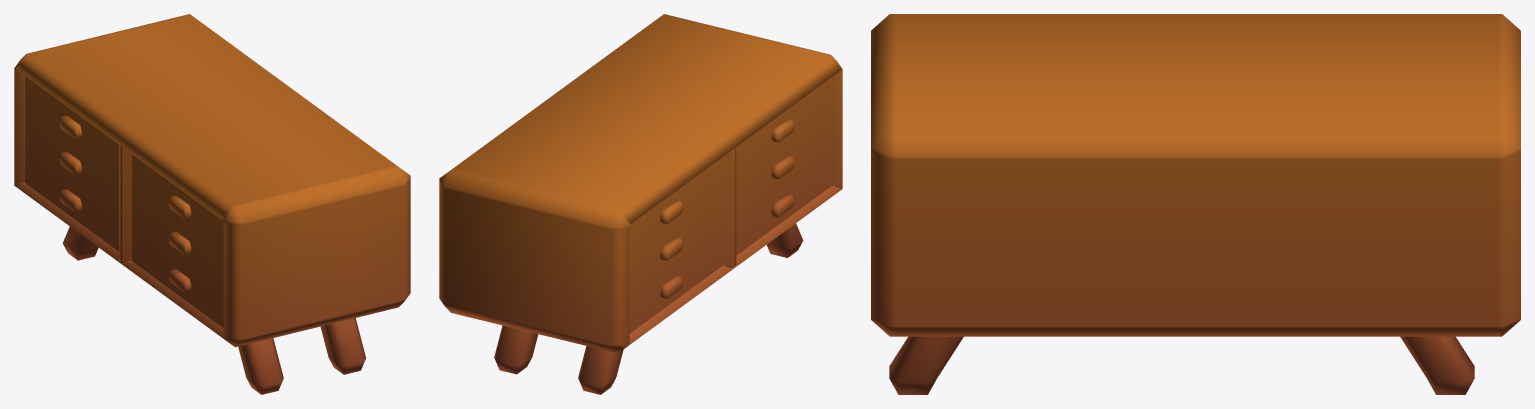
Rendered from MediumDrawer.fbx.
3 renders of one model, left to right at view 1: azimuth 30°, elevation 25°; view 2: azimuth 150°, elevation 25°; view 3: azimuth 270°, elevation 25°, orthographic. The views are drawn at different scales.
Visible parts, largest first — view 1: Medium Drawer; view 2: Medium Drawer; view 3: Medium Drawer.
Part boxes in pixels (x1,y1,x2,y2): Medium Drawer: (14,14,410,394); Medium Drawer: (439,14,842,394); Medium Drawer: (871,14,1520,394).
Bounding box in the file's own units: 7.71 × 3.75 × 3.78.
